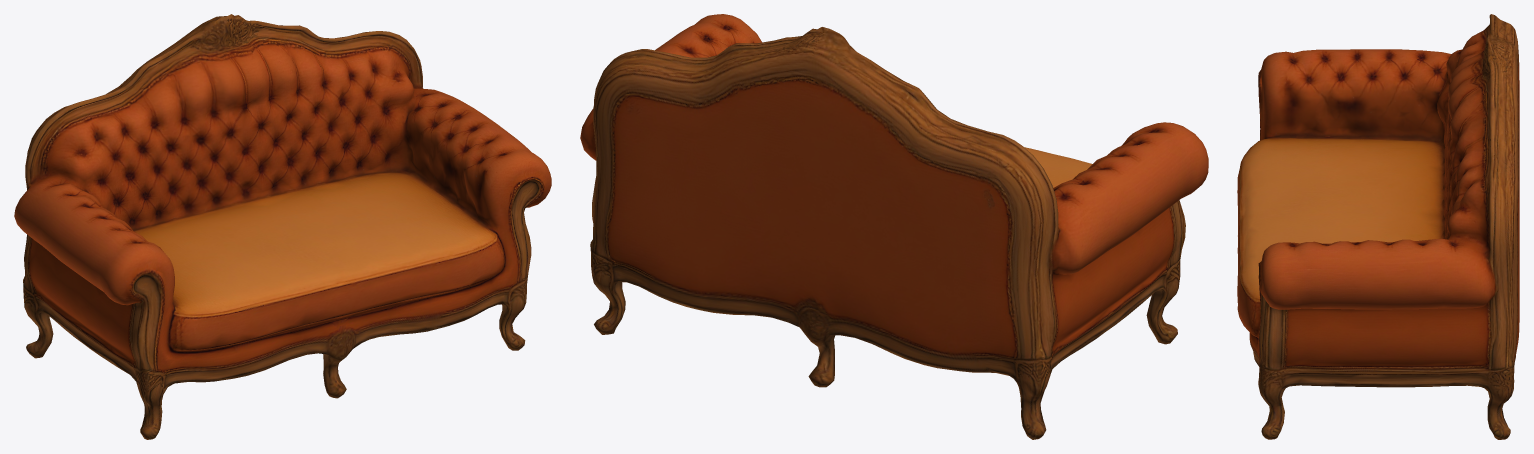
The model's file is orange-sofa.glb.
3 views of the same model, side by side, from view 1: azimuth 30°, elevation 25°; view 2: azimuth 150°, elevation 25°; view 3: azimuth 270°, elevation 25° (orthographic). The views are drawn at different scales.
Parts seen in each view (by area): view 1: input; view 2: input; view 3: input.
Part boxes in pixels (x1=…): input: x1=14, y1=14, x2=551, y2=439; input: x1=580, y1=14, x2=1208, y2=439; input: x1=1237, y1=14, x2=1519, y2=439.
Size of the model in its own units: 1.5 by 0.9765 by 0.8079.
Materials: 1 (1 with a texture image).
